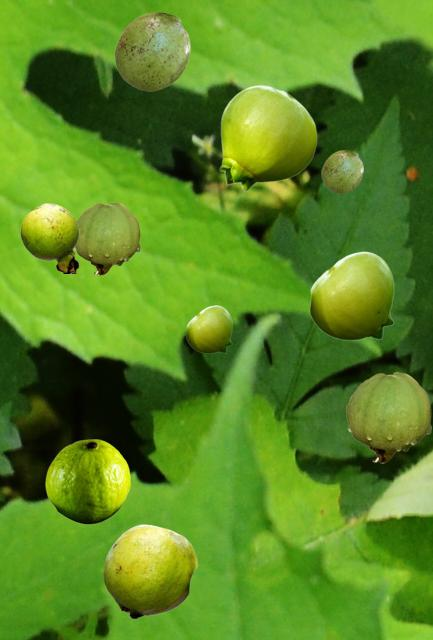guava: (219, 85, 316, 190), (103, 524, 196, 618), (346, 372, 430, 462), (309, 251, 393, 339), (45, 439, 129, 523), (114, 12, 189, 90), (74, 202, 139, 274), (20, 203, 78, 272), (186, 305, 231, 352), (321, 150, 362, 192)
